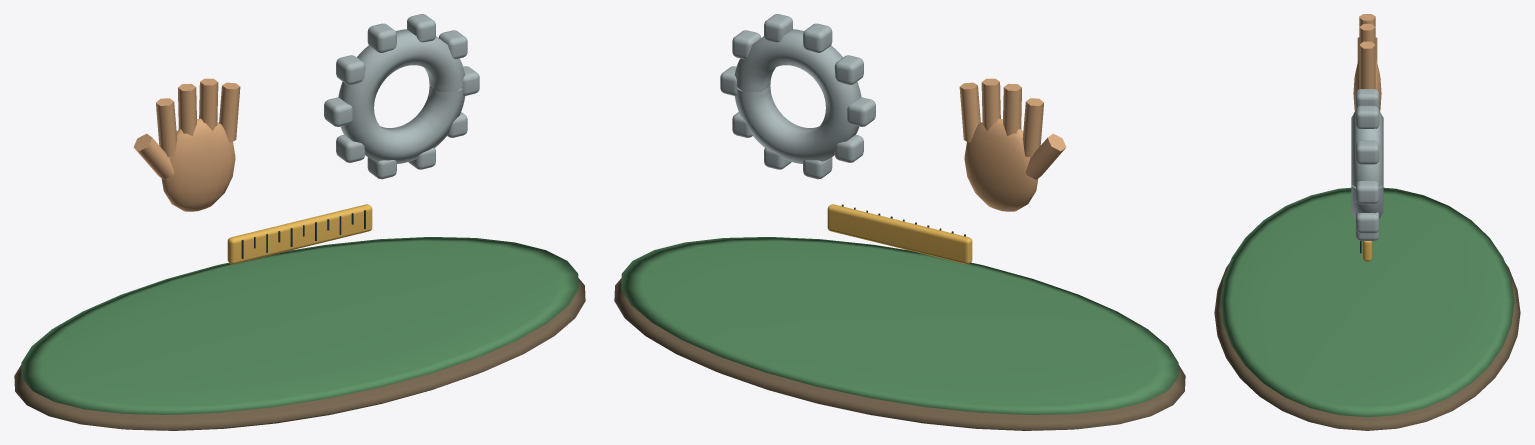
File: complete-second-skill-technique.glb
3 renders of one model, left to right at view 1: azimuth 30°, elevation 25°; view 2: azimuth 150°, elevation 25°; view 3: azimuth 270°, elevation 25°, orthographic. The views are drawn at different scales.
Parts seen in each view (by area): view 1: complete-second-skill-technique_surface_01, complete-second-skill-technique_surface_03, complete-second-skill-technique_surface_00, complete-second-skill-technique_surface_02, complete-second-skill-technique_surface_04; view 2: complete-second-skill-technique_surface_01, complete-second-skill-technique_surface_03, complete-second-skill-technique_surface_00, complete-second-skill-technique_surface_02, complete-second-skill-technique_surface_04; view 3: complete-second-skill-technique_surface_01, complete-second-skill-technique_surface_00, complete-second-skill-technique_surface_03, complete-second-skill-technique_surface_02.
Part boxes in pixels (left/top/right/bottom): complete-second-skill-technique_surface_01: left=21, top=237, right=578, bottom=414; complete-second-skill-technique_surface_03: left=324, top=14, right=479, bottom=179; complete-second-skill-technique_surface_00: left=14, top=278, right=585, bottom=430; complete-second-skill-technique_surface_02: left=133, top=78, right=240, bottom=211; complete-second-skill-technique_surface_04: left=227, top=204, right=372, bottom=264; complete-second-skill-technique_surface_01: left=621, top=237, right=1178, bottom=414; complete-second-skill-technique_surface_03: left=720, top=14, right=875, bottom=179; complete-second-skill-technique_surface_00: left=614, top=278, right=1185, bottom=430; complete-second-skill-technique_surface_02: left=959, top=78, right=1066, bottom=211; complete-second-skill-technique_surface_04: left=827, top=204, right=972, bottom=264; complete-second-skill-technique_surface_01: left=1220, top=187, right=1514, bottom=417; complete-second-skill-technique_surface_00: left=1214, top=263, right=1520, bottom=430; complete-second-skill-technique_surface_03: left=1351, top=89, right=1383, bottom=240; complete-second-skill-technique_surface_02: left=1353, top=14, right=1381, bottom=110.
Size of the model in its own units: 4.56 by 2.45 by 2.5.
